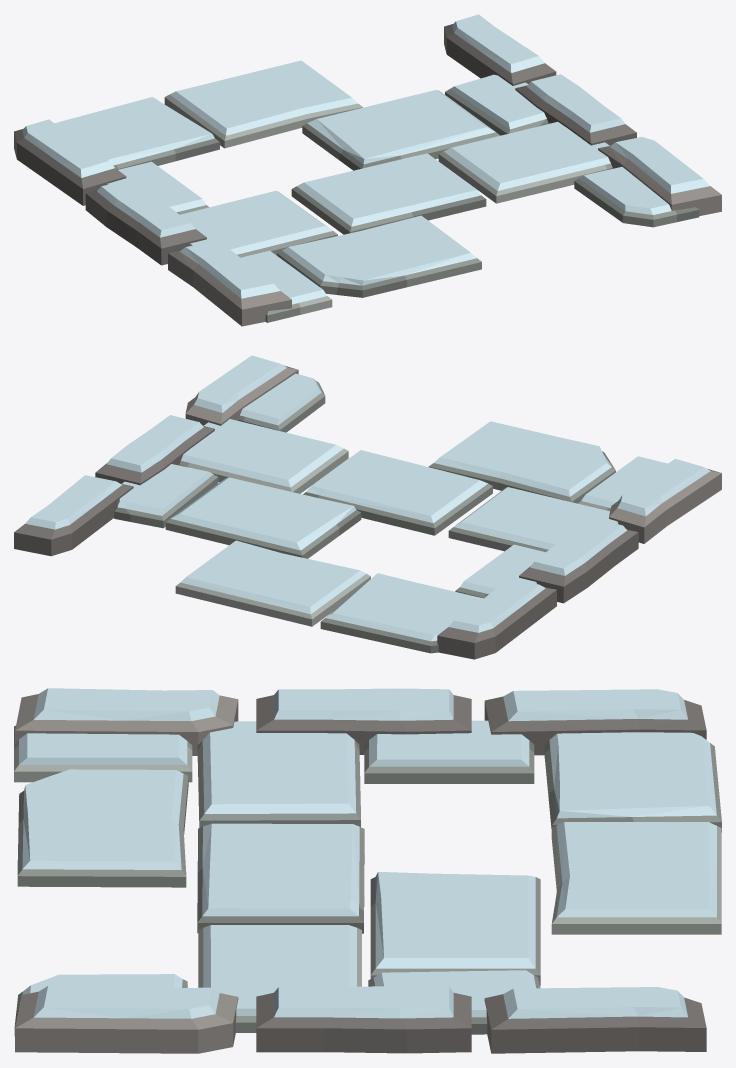
The model's file is SM_Env_Path_Tile_02_Snow.gltf.
3 renders of one model, top to bottom at view 1: azimuth 30°, elevation 25°; view 2: azimuth 150°, elevation 25°; view 3: azimuth 270°, elevation 25°, orthographic. The views are drawn at different scales.
Parts seen in each view (by area): view 1: SM_Env_Path_Tile_02_Snow; view 2: SM_Env_Path_Tile_02_Snow; view 3: SM_Env_Path_Tile_02_Snow.
Part boxes in pixels (x1,y1,x2,y2): SM_Env_Path_Tile_02_Snow: (14,14,721,326); SM_Env_Path_Tile_02_Snow: (14,355,721,659); SM_Env_Path_Tile_02_Snow: (14,688,721,1053).
Size of the model in its own units: 3.29 by 0.1807 by 2.97.
1 material, 1 textured.
